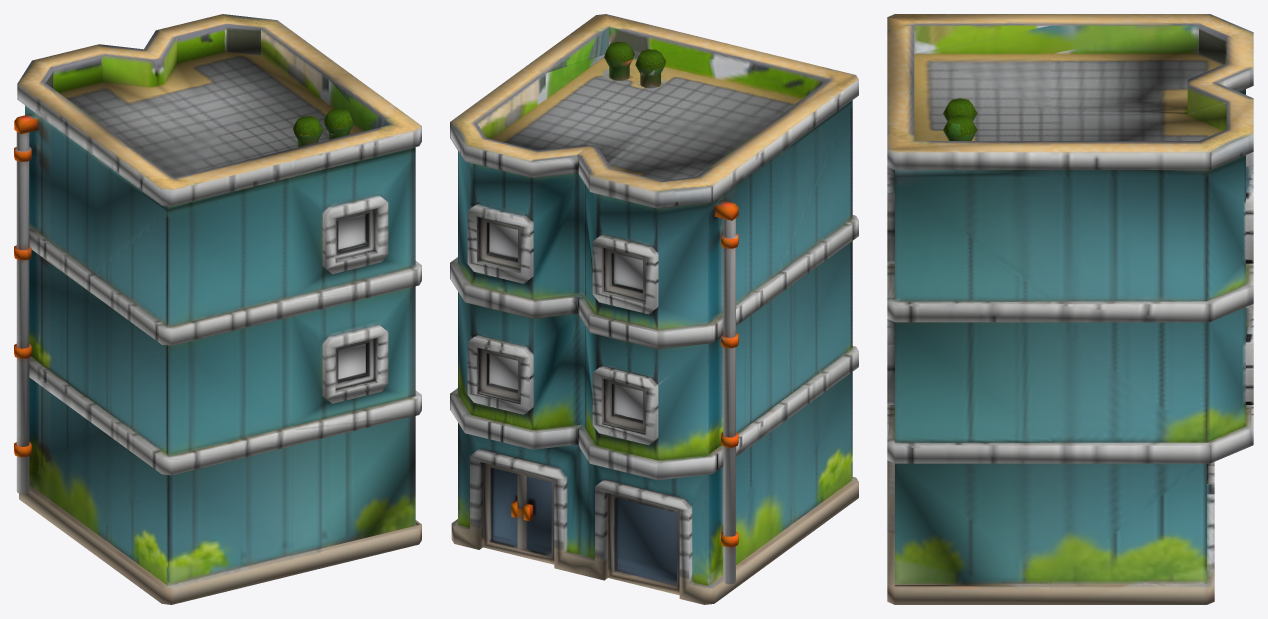
Rendered from building_medium.glb.
3 renders of one model, left to right at view 1: azimuth 30°, elevation 25°; view 2: azimuth 150°, elevation 25°; view 3: azimuth 270°, elevation 25°, orthographic. The views are drawn at different scales.
Parts seen in each view (by area): view 1: Mesh_0; view 2: Mesh_0; view 3: Mesh_0.
Part boxes in pixels (<box>): Mesh_0: <box>14,14,421,604</box>; Mesh_0: <box>450,14,858,604</box>; Mesh_0: <box>887,14,1253,604</box>.
Size of the model in its own units: 4.1 by 6 by 4.36.
1 material, 1 textured.
